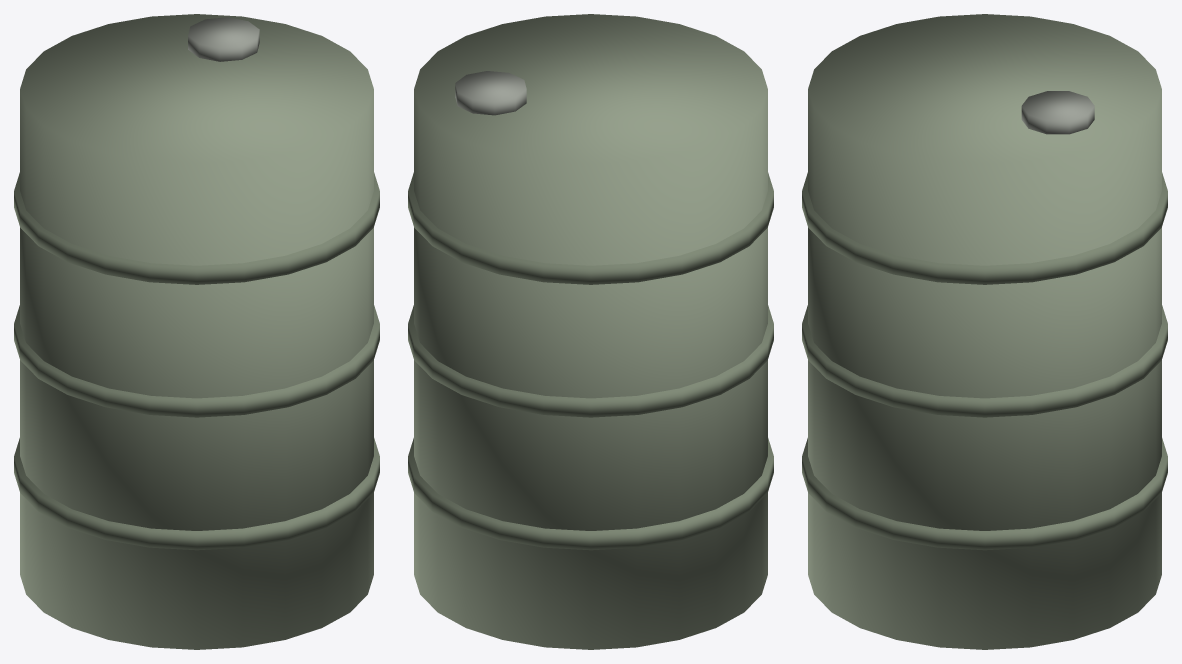
Rendered from fuel_barrel.glb.
3 renders of one model, left to right at view 1: azimuth 30°, elevation 25°; view 2: azimuth 150°, elevation 25°; view 3: azimuth 270°, elevation 25°, orthographic.
Parts seen in each view (by area): view 1: barrel_body, barrel_rib44, barrel_rib20, barrel_rib68, barrel_cap; view 2: barrel_body, barrel_rib44, barrel_rib20, barrel_rib68, barrel_cap; view 3: barrel_body, barrel_rib44, barrel_rib20, barrel_rib68, barrel_cap.
Part boxes in pixels (x1=…): barrel_body: x1=20, y1=14, x2=373, y2=649; barrel_rib44: x1=14, y1=305, x2=379, y2=417; barrel_rib20: x1=14, y1=438, x2=379, y2=550; barrel_rib68: x1=14, y1=172, x2=379, y2=284; barrel_cap: x1=188, y1=17, x2=259, y2=61; barrel_body: x1=414, y1=14, x2=767, y2=649; barrel_rib44: x1=408, y1=305, x2=773, y2=417; barrel_rib20: x1=408, y1=438, x2=773, y2=550; barrel_rib68: x1=408, y1=172, x2=773, y2=284; barrel_cap: x1=455, y1=71, x2=526, y2=115; barrel_body: x1=808, y1=14, x2=1161, y2=649; barrel_rib44: x1=802, y1=305, x2=1167, y2=417; barrel_rib20: x1=802, y1=438, x2=1167, y2=550; barrel_rib68: x1=802, y1=172, x2=1167, y2=284; barrel_cap: x1=1021, y1=91, x2=1094, y2=134.
Bounding box in the file's own units: 0.6 × 0.905 × 0.6.
